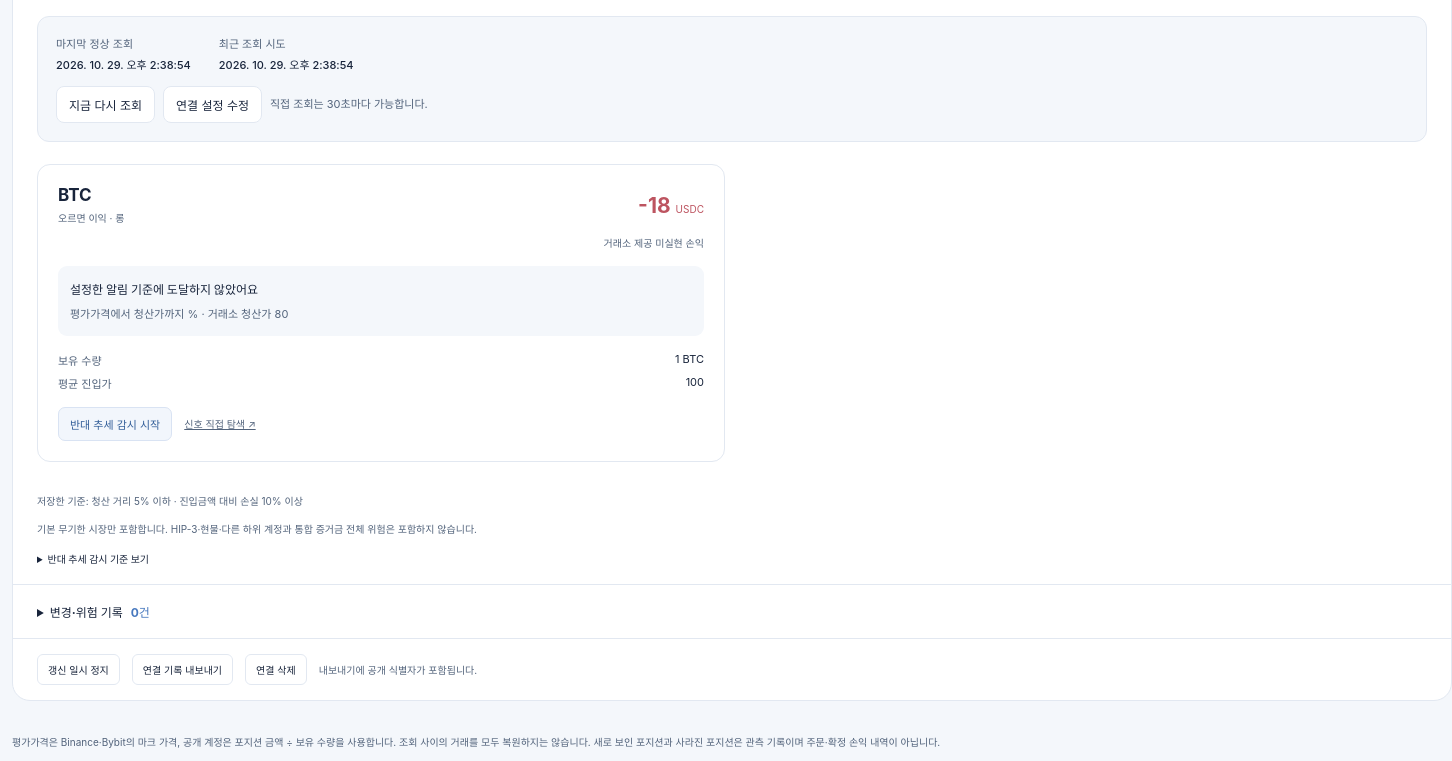
it: binds opposite signals to the actual position and requires an explicit second action before deleting records
(page scrolled)
Step 1. Click the button "반대 추세 감시 시작" → [115, 424], box 58,407 -> 172,441
(page scrolled)
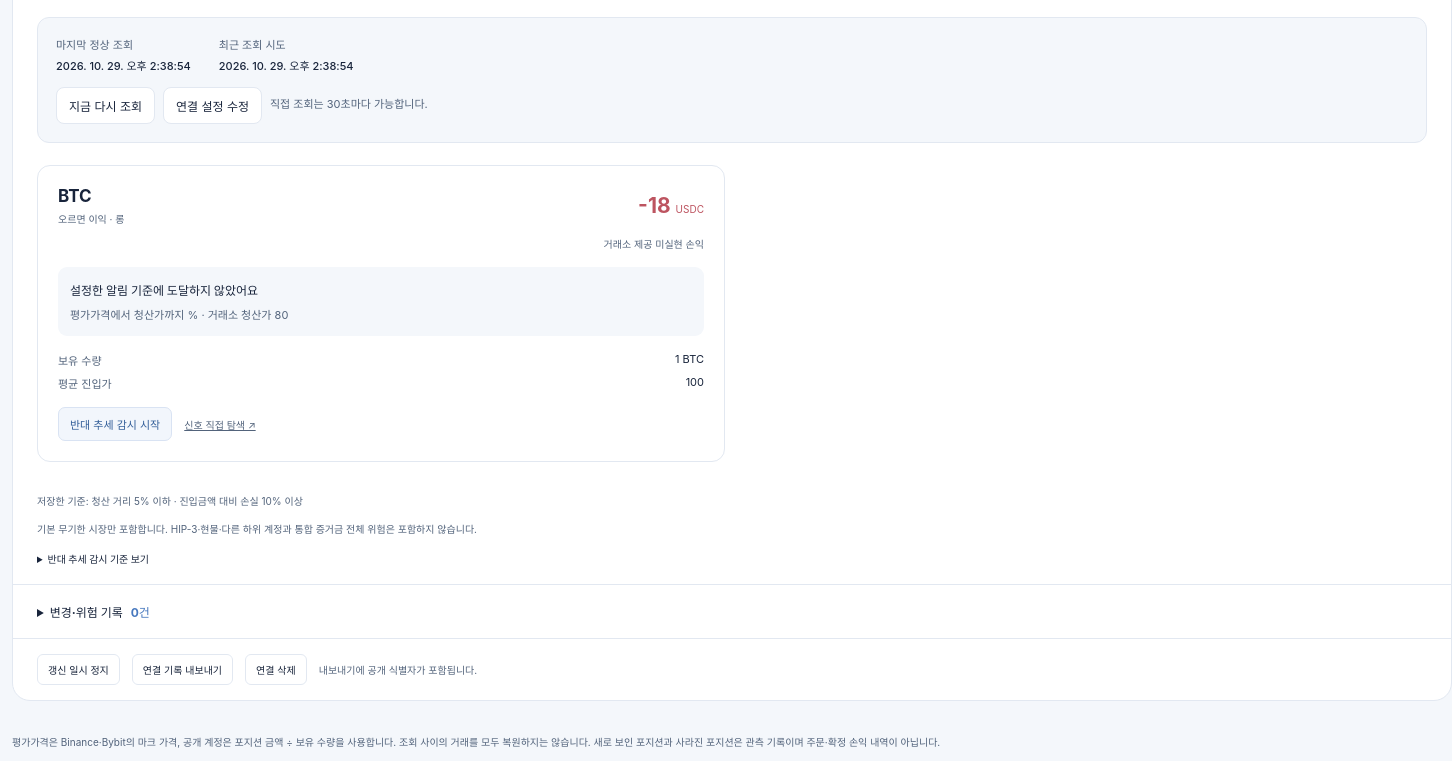
Step 2. Click the button "연결 삭제" → [276, 670], box 245,654 -> 307,685
(page scrolled)
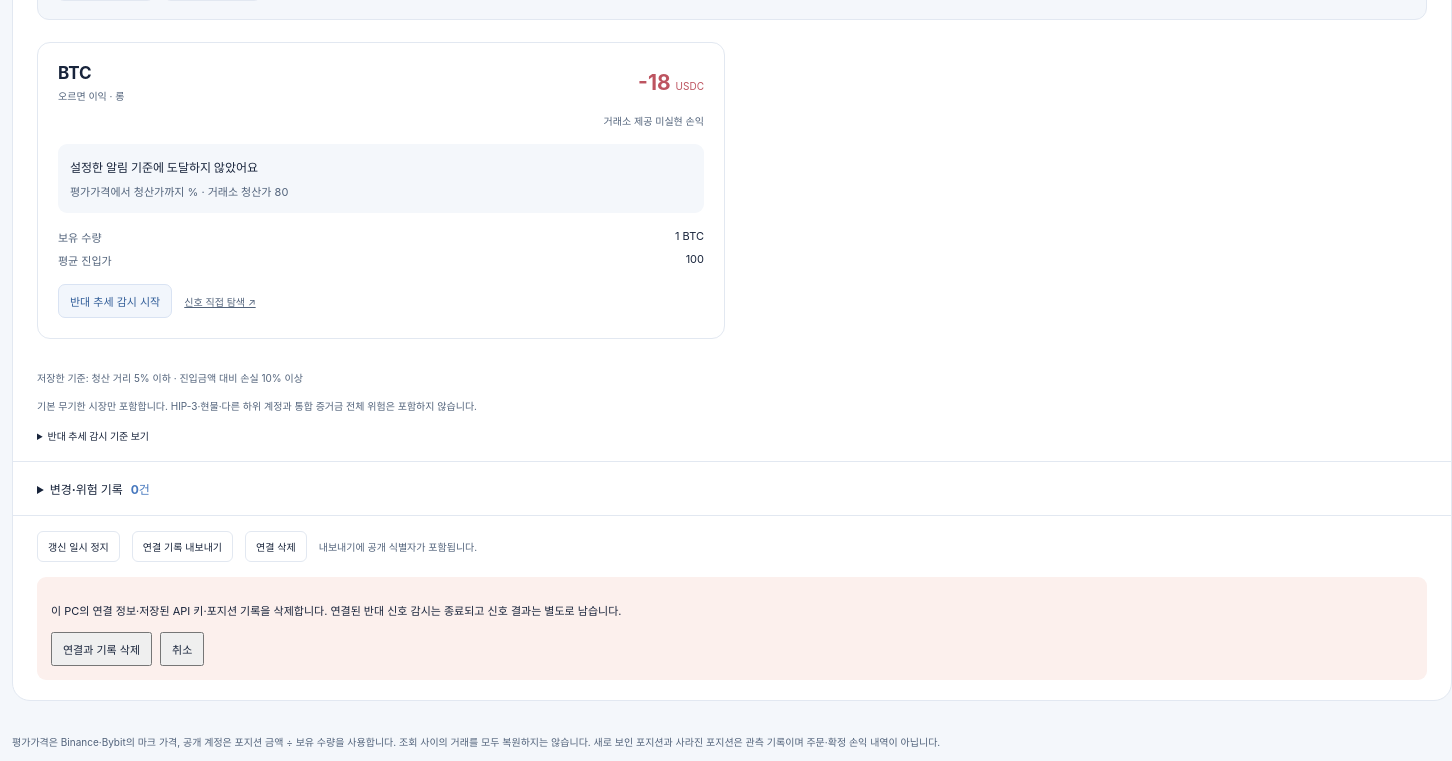
Step 3. Click the button "연결과 기록 삭제" → [102, 649], box 51,632 -> 152,666
(page scrolled)
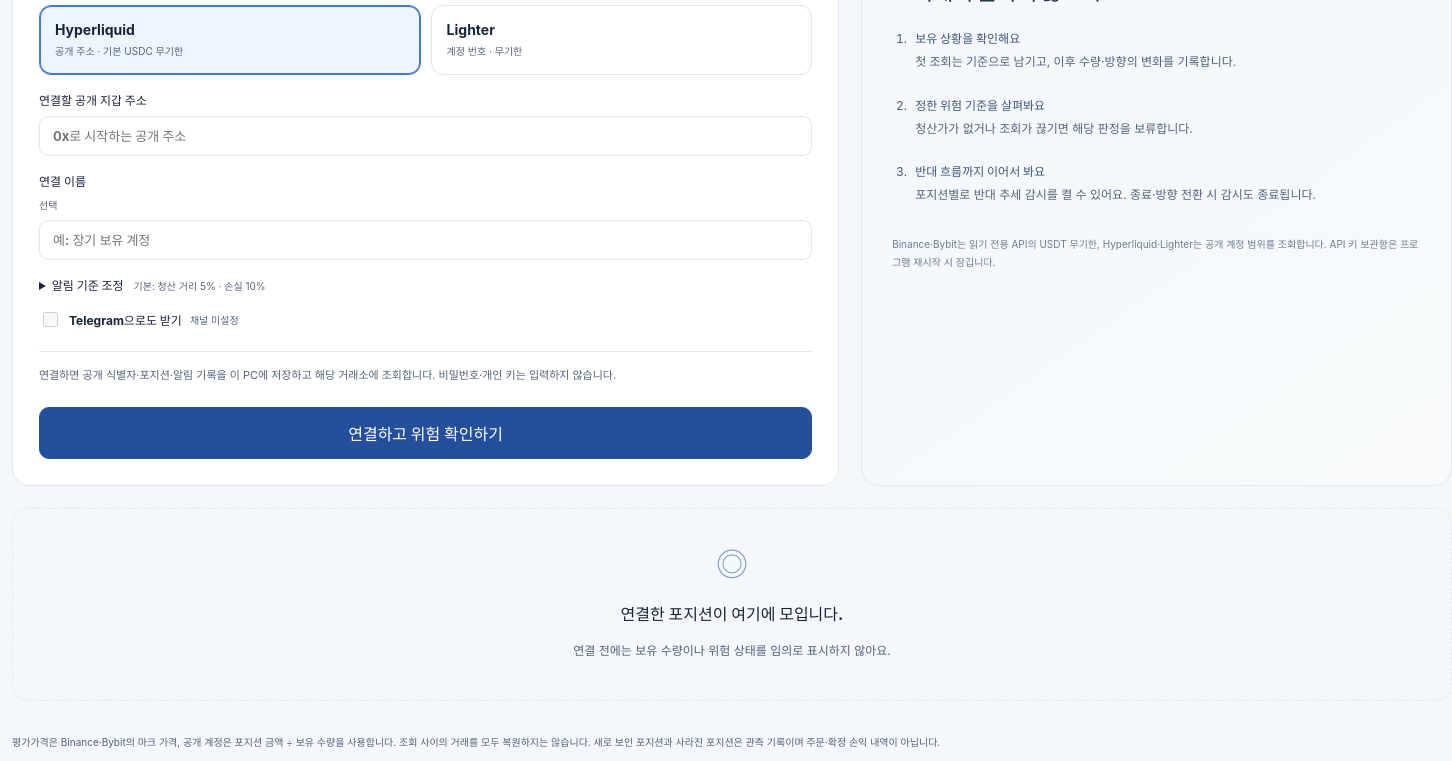
Now the heading "연결한 포지션이 여기에 모입니다." is shown, box 621,604 -> 843,624
